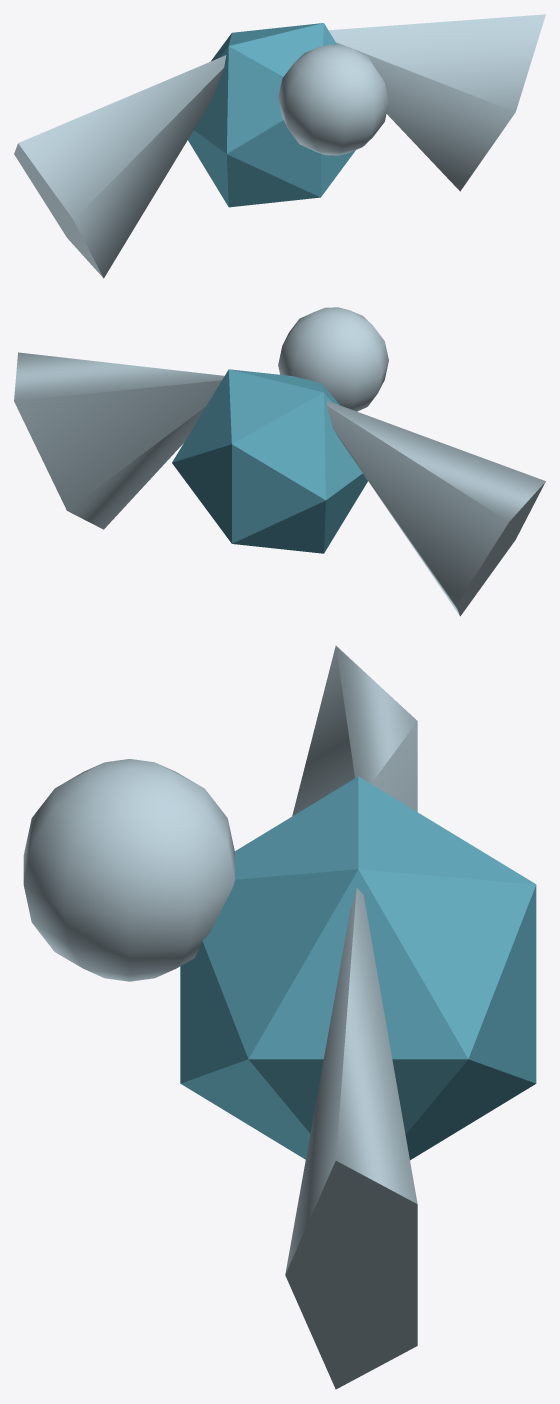
Rendered from cloud_manta.glb.
3 renders of one model, top to bottom at view 1: azimuth 30°, elevation 25°; view 2: azimuth 150°, elevation 25°; view 3: azimuth 270°, elevation 25°, orthographic. The views are drawn at different scales.
Visible parts, largest first — view 1: wing_-1, wing_1, body_core, head_core; view 2: body_core, wing_1, wing_-1, head_core; view 3: body_core, wing_1, head_core, wing_-1.
Boxes of the visible parts, box(x1,y1,x2,y2) form: wing_-1: box(14, 55, 226, 278); wing_1: box(328, 14, 545, 191); body_core: box(188, 23, 355, 207); head_core: box(278, 44, 388, 155); body_core: box(172, 369, 367, 553); wing_1: box(14, 352, 224, 529); wing_-1: box(326, 401, 545, 616); head_core: box(278, 307, 388, 411); body_core: box(180, 776, 536, 1160); wing_1: box(285, 888, 417, 1389); head_core: box(23, 759, 234, 981); wing_-1: box(292, 645, 417, 816).
Size of what is drawn, in the model's own units: 4.37 by 1.77 by 1.84.
